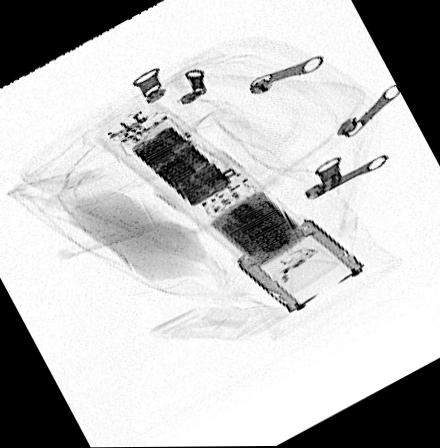Baton: (95, 101, 369, 316)
